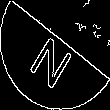N_NE: (28, 23, 82, 87)
